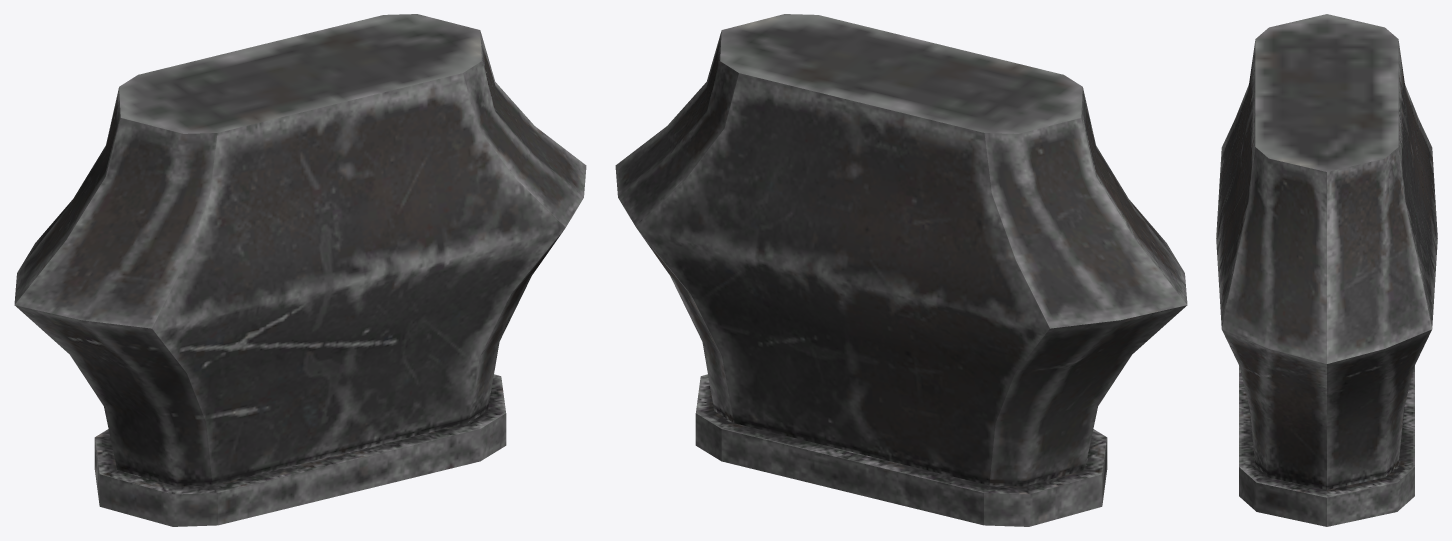
Rendered from sm_uruk_sword_guard_a3.fbx.
3 renders of one model, left to right at view 1: azimuth 30°, elevation 25°; view 2: azimuth 150°, elevation 25°; view 3: azimuth 270°, elevation 25°, orthographic. The views are drawn at different scales.
Parts seen in each view (by area): view 1: sm_uruk_sword_guard_a3; view 2: sm_uruk_sword_guard_a3; view 3: sm_uruk_sword_guard_a3.
Part boxes in pixels (box(x1,y1,x2,y2)): sm_uruk_sword_guard_a3: box(14, 14, 586, 526); sm_uruk_sword_guard_a3: box(615, 14, 1187, 526); sm_uruk_sword_guard_a3: box(1216, 14, 1437, 526).
Bounding box in the file's own units: 0.1458 × 0.0543 × 0.0935.
Materials: 1 (1 with a texture image).
